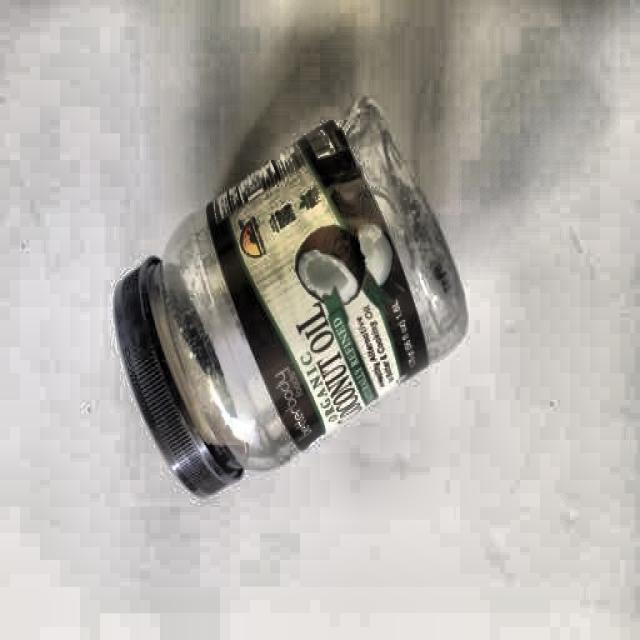plastic: (114, 106, 470, 504)
